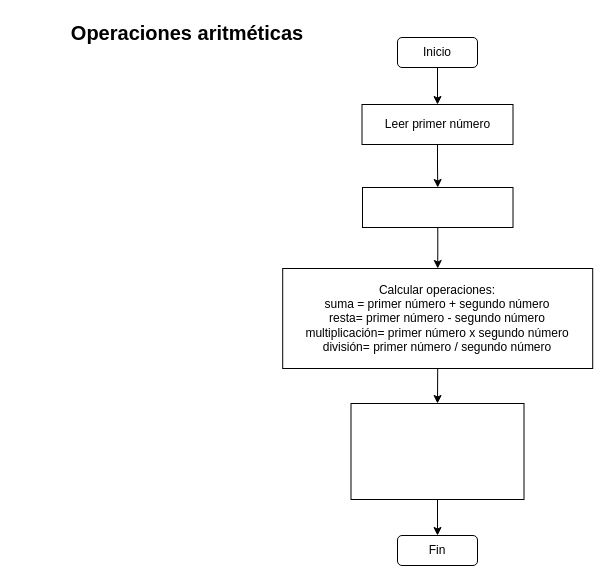
Some shapes in this 610 by 583 pixel diagram are drawn without their labels. Each missing label, with the centre of its shape:
Leer segundo número: (437,207)
Presentar por pantalla: - suma. - resta. - multiplicación. - división: (437,451)
